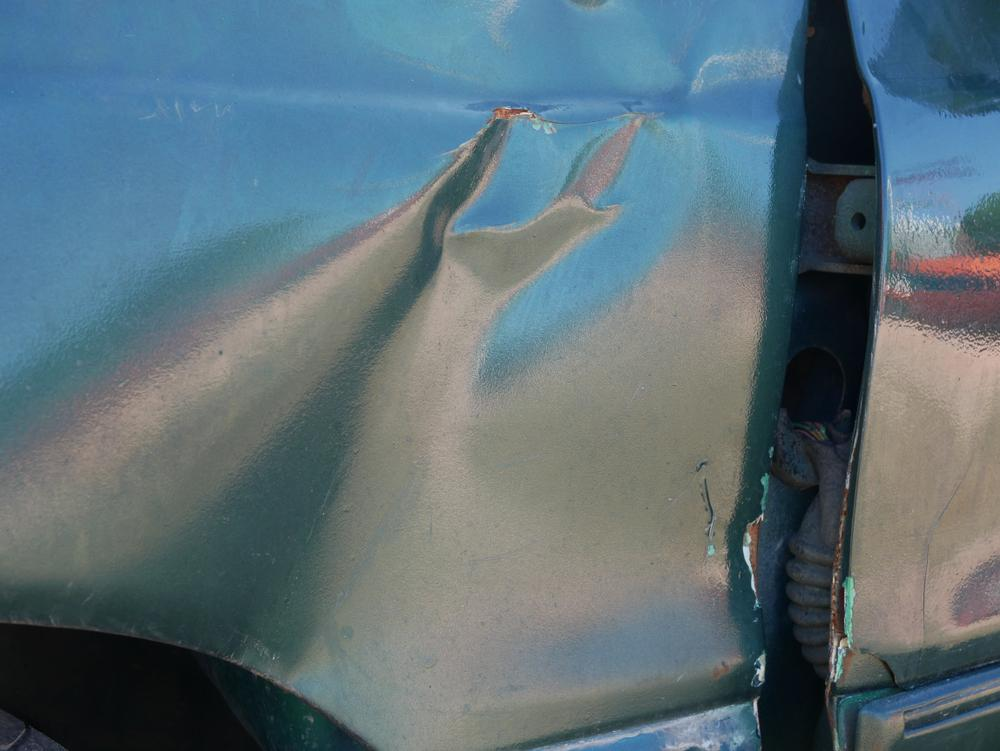dent: (68, 107, 704, 692)
